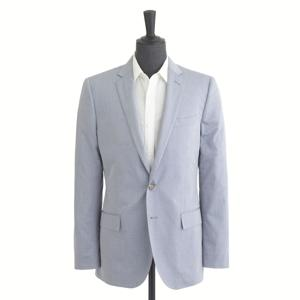F_M_suit jacket: (70, 60, 231, 278)
